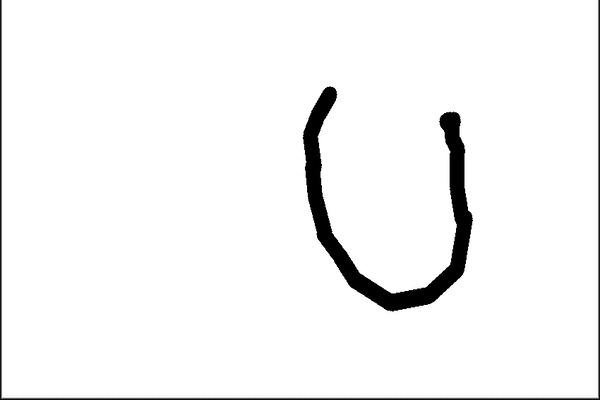U: (288, 77, 484, 310)
